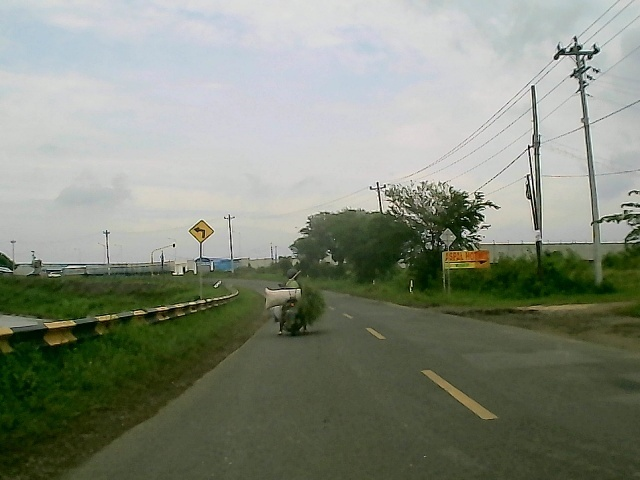Tikungan tajam ke kiri: (187, 218, 216, 247)
